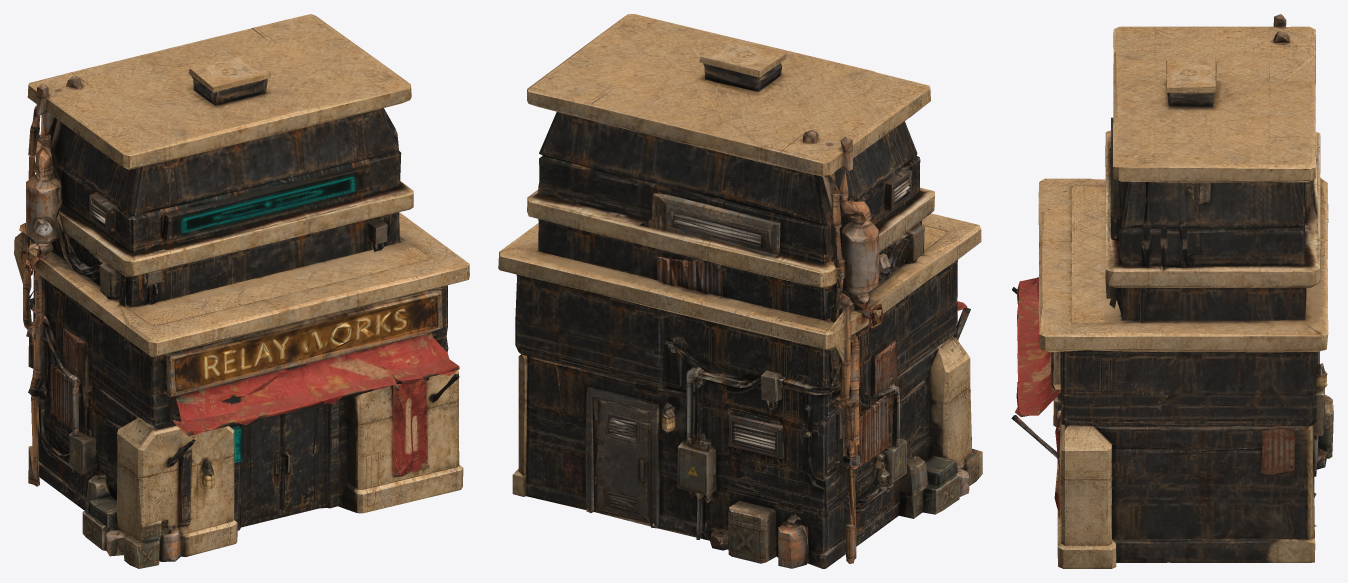
Rendered from relay.glb.
3 renders of one model, left to right at view 1: azimuth 30°, elevation 25°; view 2: azimuth 150°, elevation 25°; view 3: azimuth 270°, elevation 25°, orthographic. The views are drawn at different scales.
Size of the model in its own units: 1.64 by 1.9 by 1.34.
Materials: 1 (1 with a texture image).
